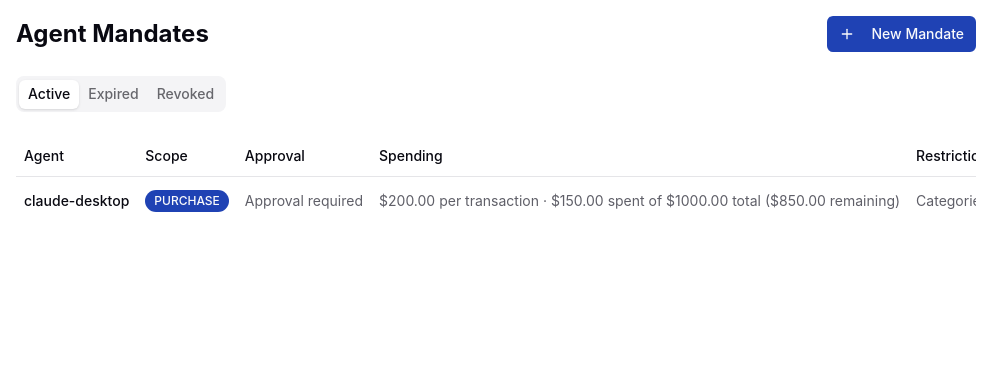
it: MandatesPage › shows "No mandates" with filtered message for expired tab
What coordinates should you click on to do the following:
click the tab "Expired"
I would click on:
 (113, 94)
Its box is x1=79 y1=80 x2=148 y2=108.
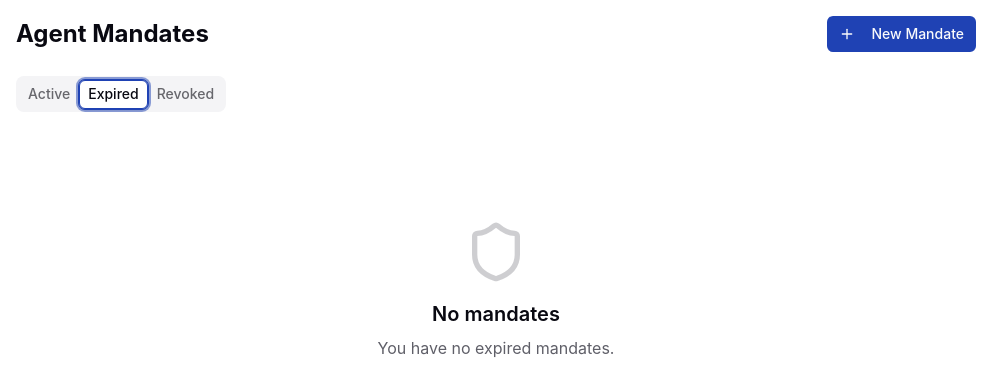
Check: the heading "No mandates" is shown, box x1=432 y1=302 x2=560 y2=326
Check: the text "You have no expired mandates." is shown, box x1=378 y1=336 x2=614 y2=360
